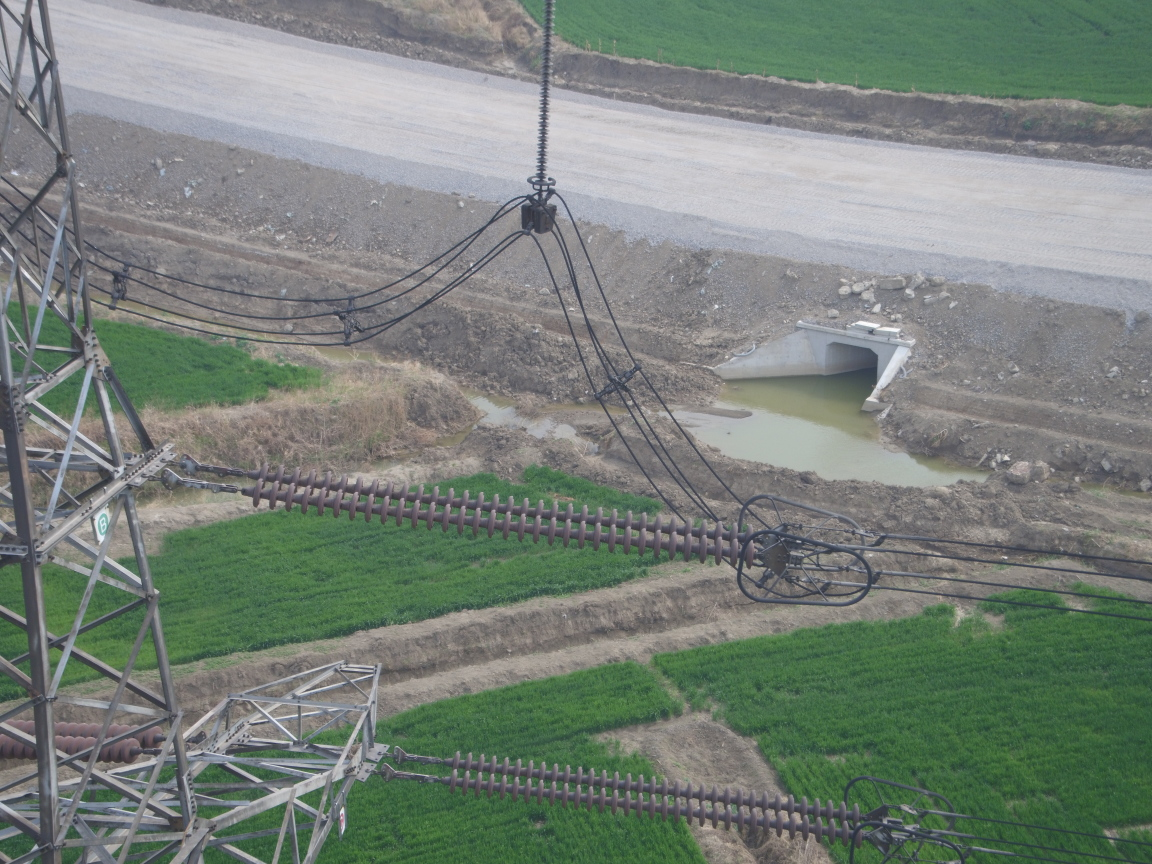insulator: (212, 460, 777, 571), (422, 746, 884, 849)
